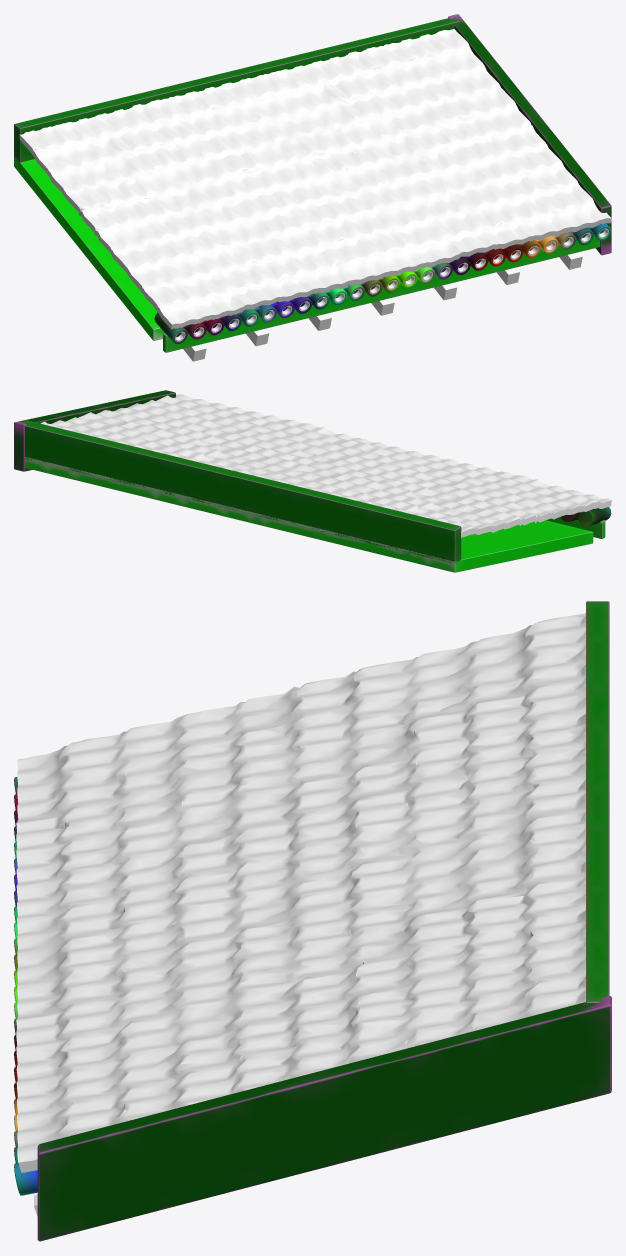
Rendered from overhang_slope_200_01_right.fbx.
The picture shows the model from 3 angles, top to bottom: view 1: azimuth 30°, elevation 25°; view 2: azimuth 150°, elevation 25°; view 3: azimuth 270°, elevation 25°; orthographic projection. The views are drawn at different scales.
Parts seen in each view (by area): view 1: overhang_slope_200_01_right; view 2: overhang_slope_200_01_right; view 3: overhang_slope_200_01_right.
Boxes of the visible parts, x1,y1,x2,y2 form: overhang_slope_200_01_right: [14, 14, 611, 361]; overhang_slope_200_01_right: [14, 390, 611, 572]; overhang_slope_200_01_right: [14, 601, 611, 1241].
Bounding box in the file's own units: 4.05 × 1.17 × 2.52.
